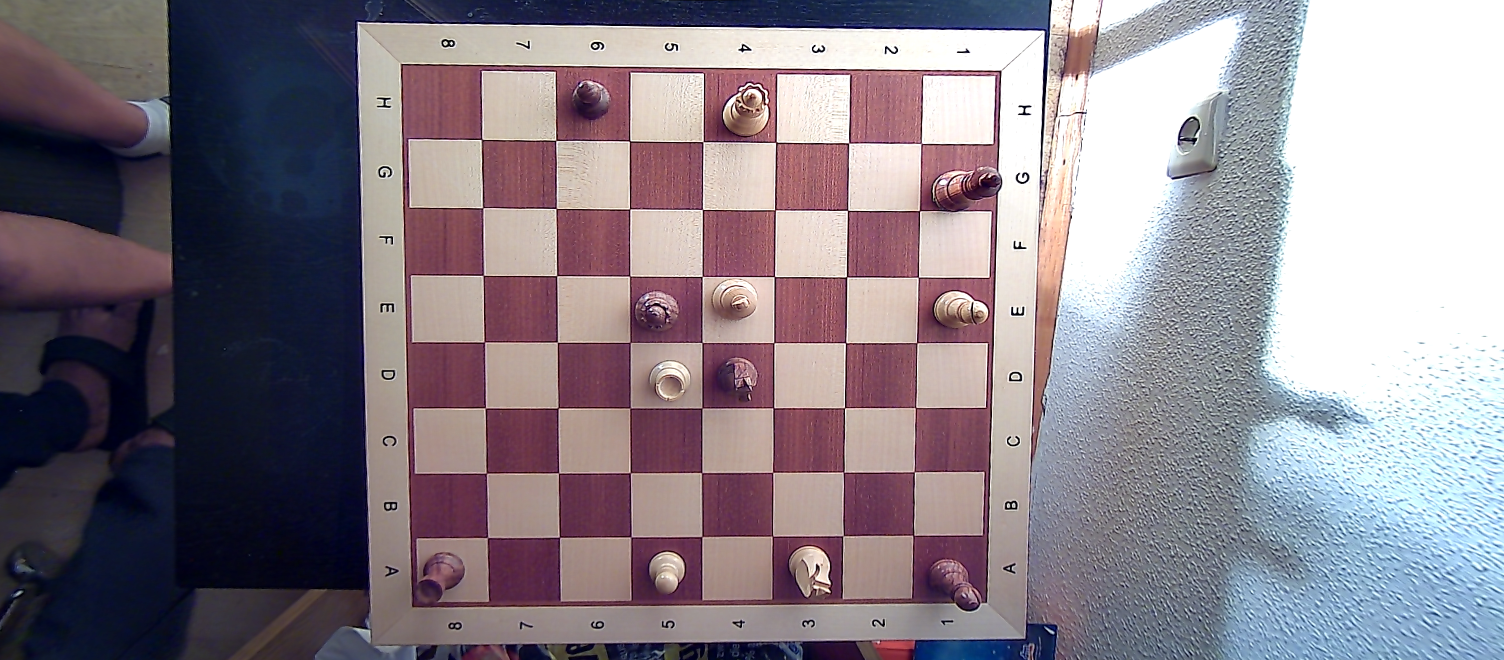black-bishop: (924, 550, 985, 615)
black-king: (931, 162, 1005, 218)
black-knight: (711, 353, 762, 407)
black-pawn: (566, 74, 615, 122)
black-queen: (633, 289, 680, 335)
black-rook: (414, 546, 471, 608)
white-bishop: (930, 285, 989, 335)
white-king: (705, 278, 765, 324)
white-knight: (784, 542, 835, 600)
white-pawn: (647, 549, 687, 595)
white-queen: (722, 81, 773, 139)
white-rook: (641, 358, 695, 405)
